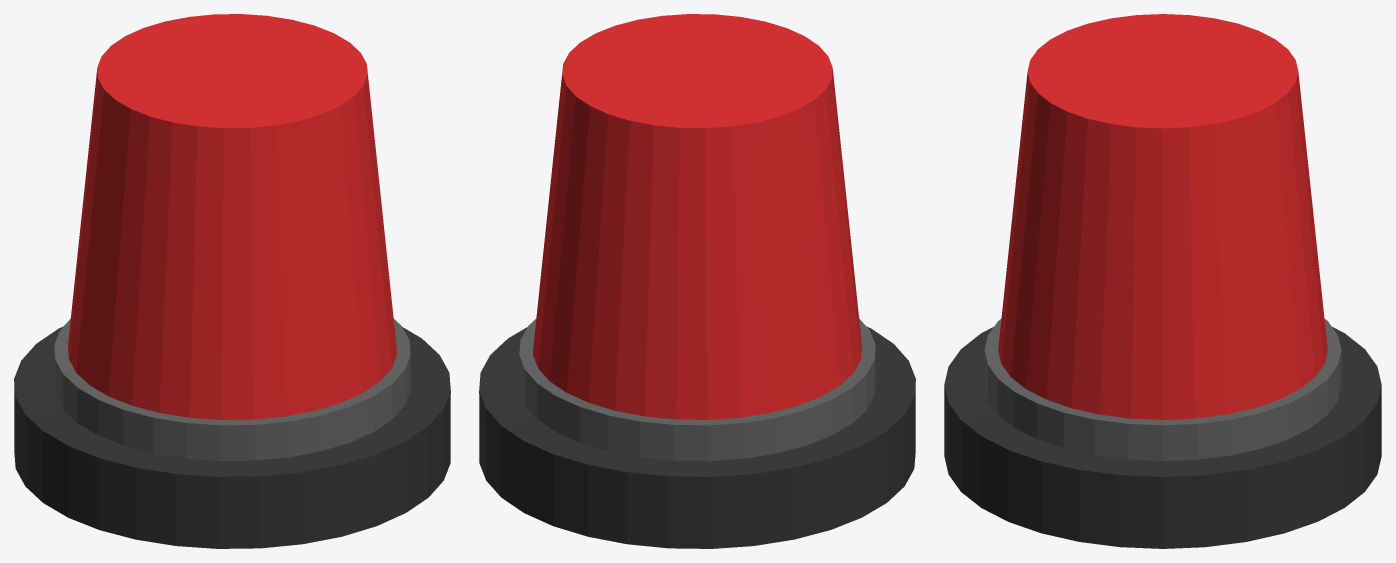
File: Sirine.fbx
3 renders of one model, left to right at view 1: azimuth 30°, elevation 25°; view 2: azimuth 150°, elevation 25°; view 3: azimuth 270°, elevation 25°, orthographic.
Parts seen in each view (by area): view 1: Sirine; view 2: Sirine; view 3: Sirine.
Boxes of the visible parts, bbox=[...] form: Sirine: bbox=[14, 14, 450, 548]; Sirine: bbox=[479, 14, 915, 548]; Sirine: bbox=[944, 14, 1381, 548].
Bounding box in the file's own units: 244 × 237 × 244.
